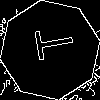T: (25, 25, 75, 63)
